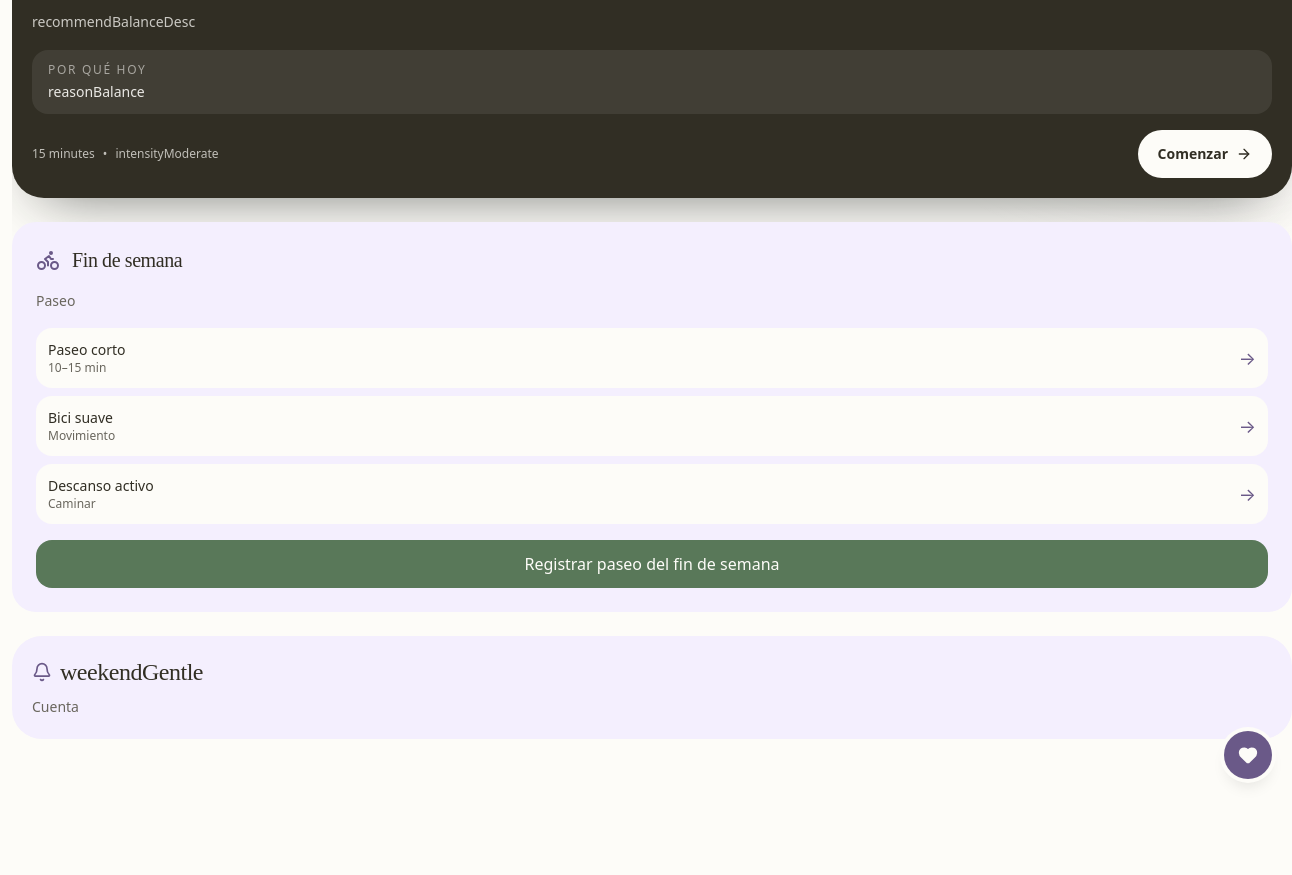
Scenario: HomeScreen premium › preserva el flujo de paseo de fin de semana
This screenshot has width=1292, height=875.
(page scrolled)
Step 1. Click the button "Registrar paseo del fin de semana" → click(652, 564), box [36,540,1268,588]
(page scrolled)
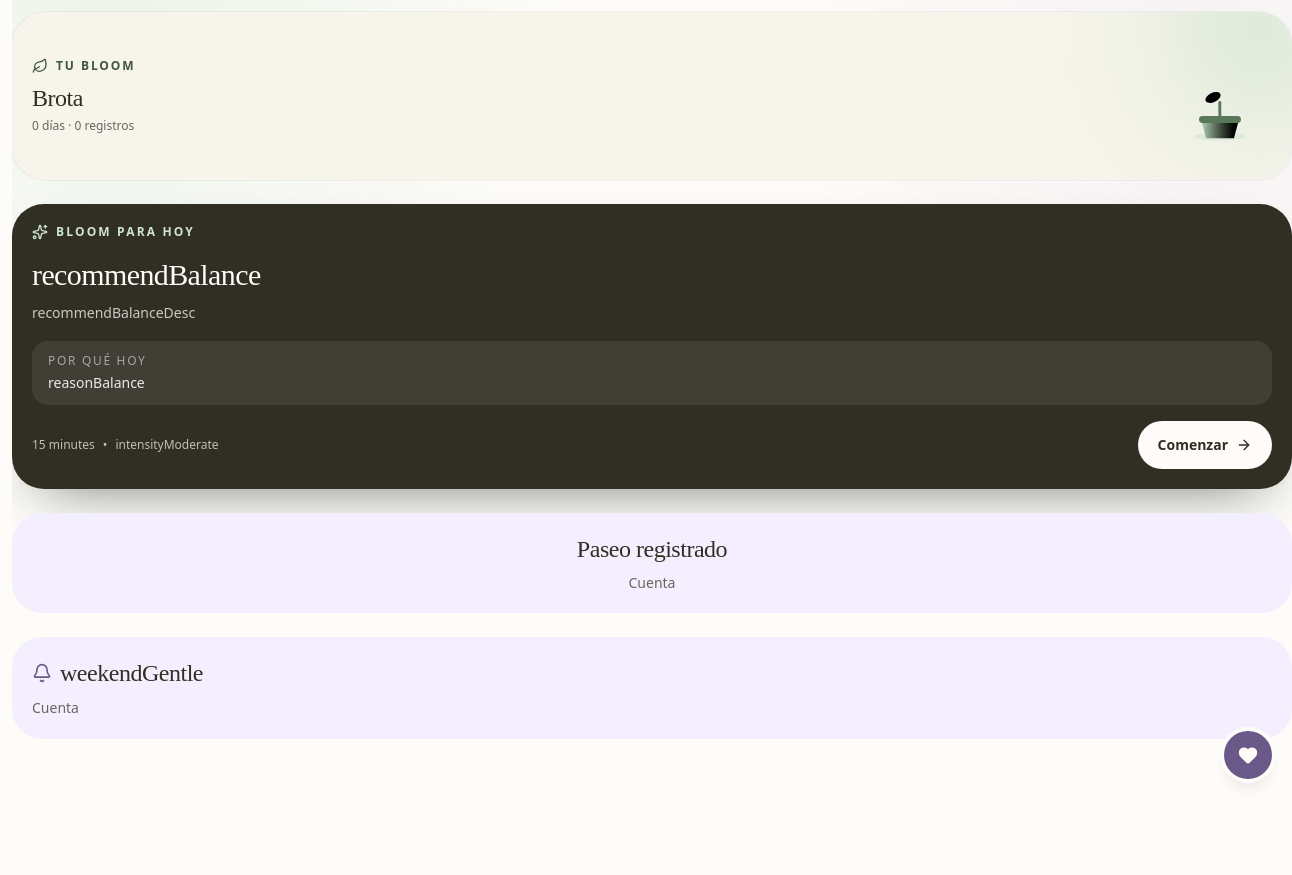
Now the text "Paseo registrado" is shown, box [577,536,727,562]
